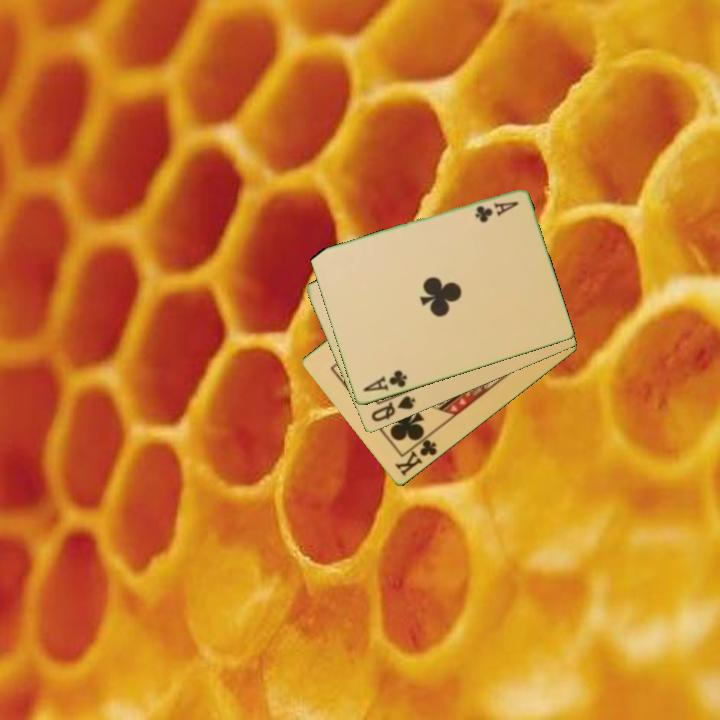Ac: (359, 366, 410, 395), (471, 198, 522, 225)
Kc: (391, 431, 440, 480)
Qs: (367, 392, 419, 425)
